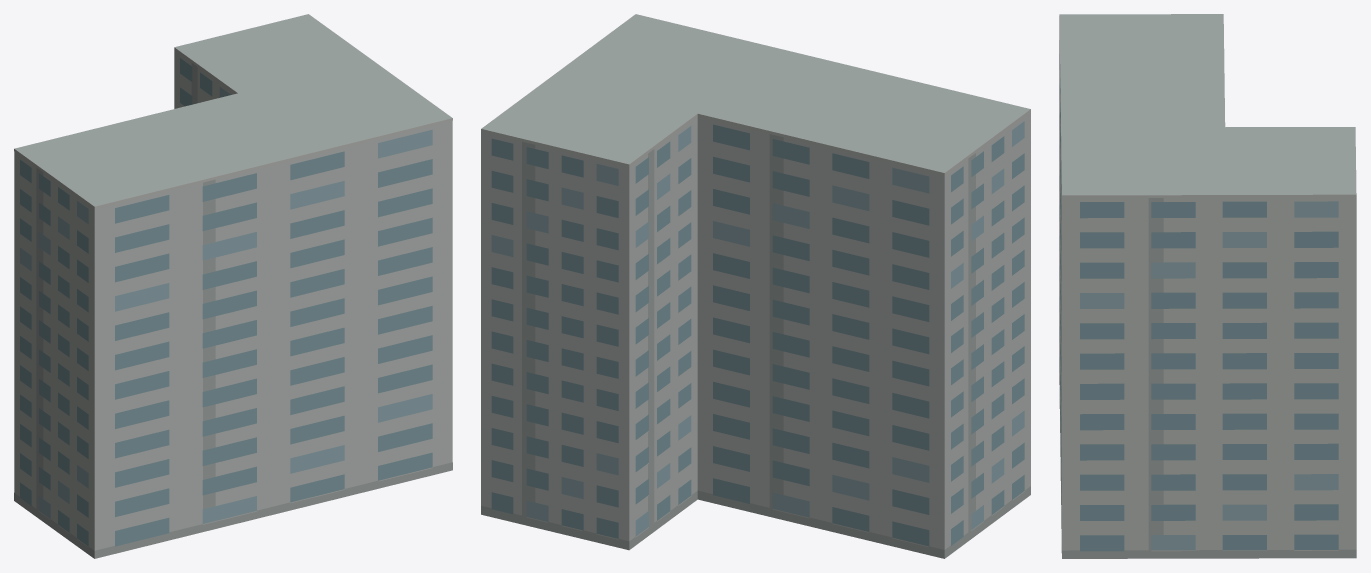
Rendered from residential-c5a0791a-d89e-4242-9316-81cce7c4dd70.glb.
The picture shows the model from 3 angles, left to right: view 1: azimuth 30°, elevation 25°; view 2: azimuth 150°, elevation 25°; view 3: azimuth 270°, elevation 25°; orthographic projection. The views are drawn at different scales.
Parts seen in each view (by area): view 1: residential-c5a0791a-d89e-4242-9316-81cce7c4dd70.tmp; view 2: residential-c5a0791a-d89e-4242-9316-81cce7c4dd70.tmp; view 3: residential-c5a0791a-d89e-4242-9316-81cce7c4dd70.tmp.
Part boxes in pixels (left/top/right/bottom): residential-c5a0791a-d89e-4242-9316-81cce7c4dd70.tmp: left=14, top=14, right=452, bottom=558; residential-c5a0791a-d89e-4242-9316-81cce7c4dd70.tmp: left=481, top=14, right=1030, bottom=558; residential-c5a0791a-d89e-4242-9316-81cce7c4dd70.tmp: left=1059, top=14, right=1356, bottom=558.
Size of the model in its own units: 34.27 by 32 by 23.71.
